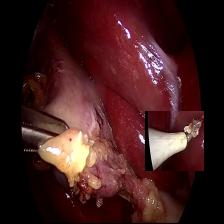Grasper: (20, 100, 72, 170)
Hook: (145, 111, 204, 171)
